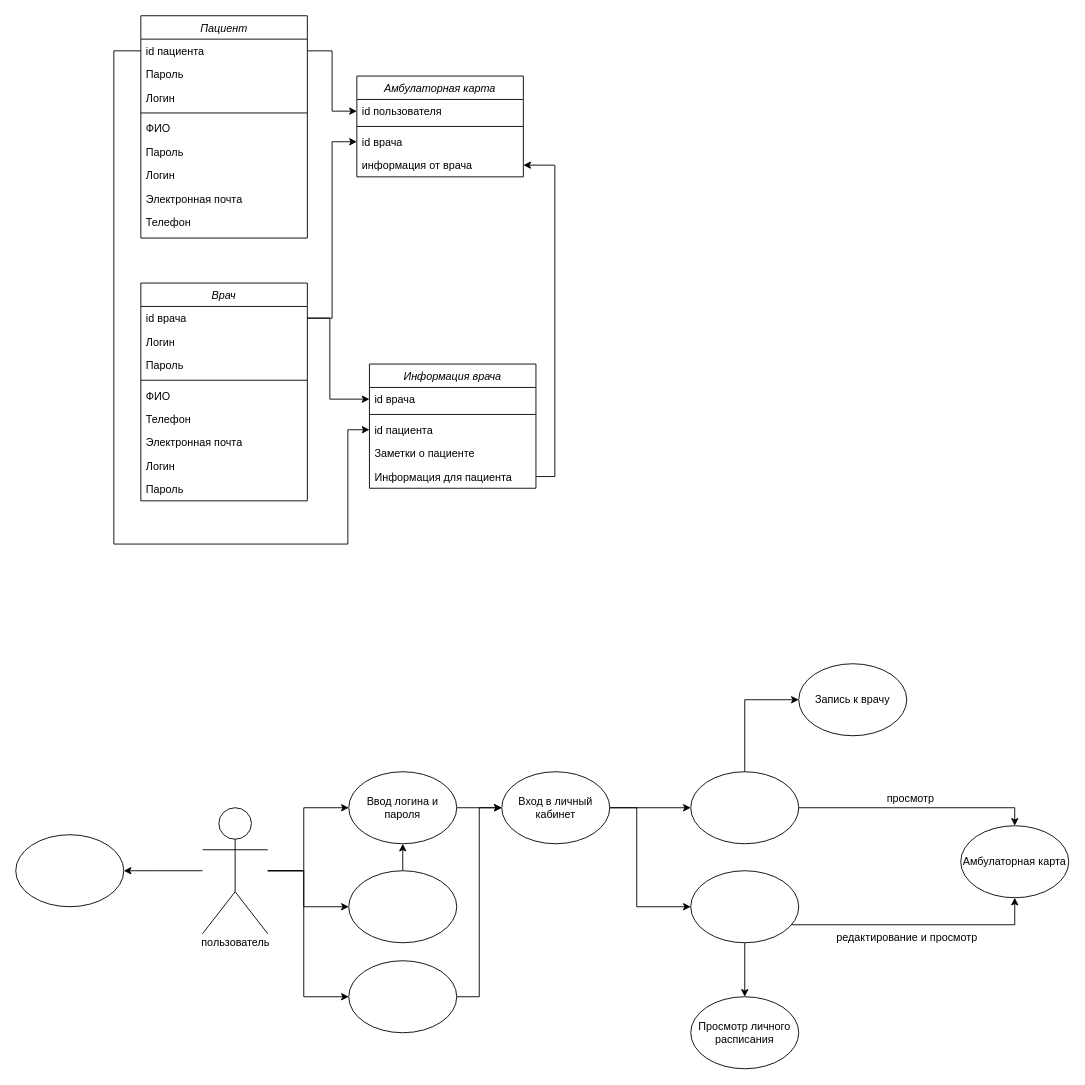
Some shapes in this 1085 by 1085 pixel diagram are drawn without their labels. The shapes that lost their labels are listed below. From the top down, each one's box as (x1, y1, x2, y2) in pixels, then its label:
(690, 771, 799, 844): Личный кабинет пациента
(15, 834, 124, 907): Просмотр общедоступной информации
(348, 870, 457, 943): Восстановление пароля
(690, 870, 799, 943): Личный кабинет врача
(348, 960, 457, 1033): Регистрация
